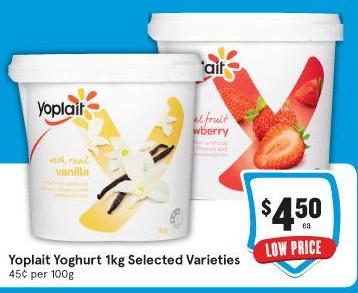description_block: (7, 251, 244, 270)
price_main: (246, 180, 341, 237)
product_image_block: (4, 39, 209, 245)
promo_text_block: (249, 237, 339, 261)
unit_price_block: (6, 269, 78, 281)
